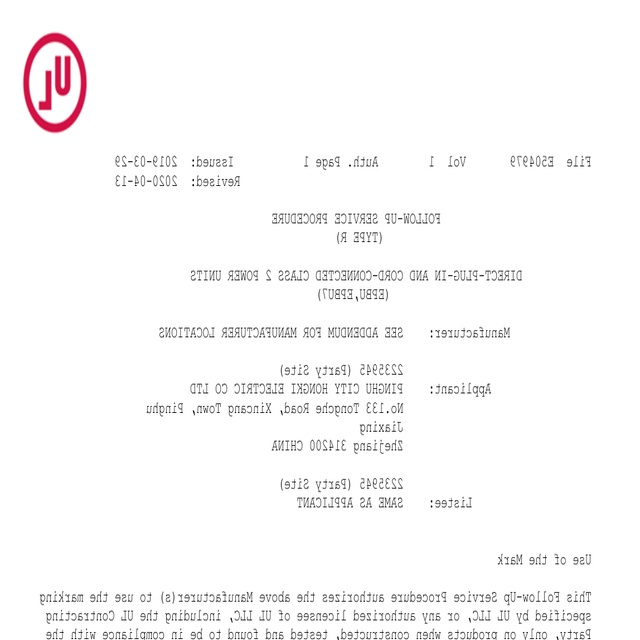ul: (21, 31, 90, 135)
